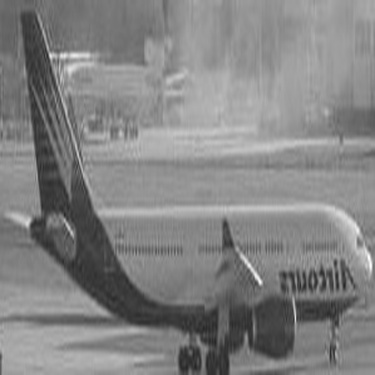airplane: (1, 7, 373, 372)
